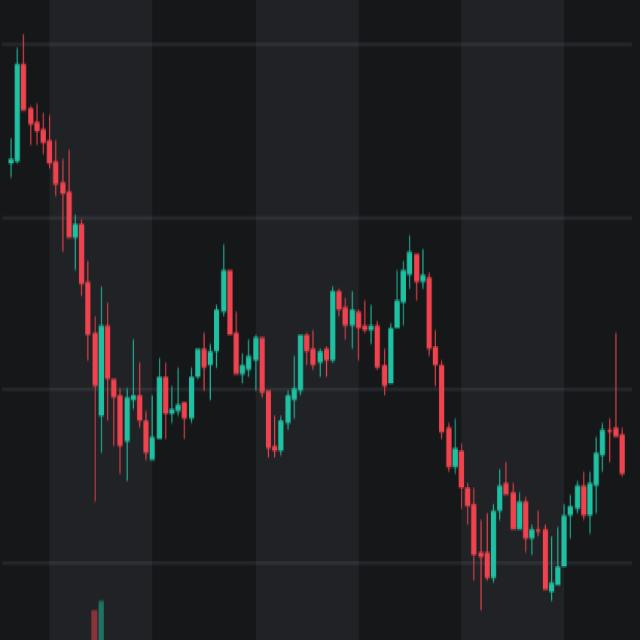Resistance-Emerging: (70, 233, 465, 480)
